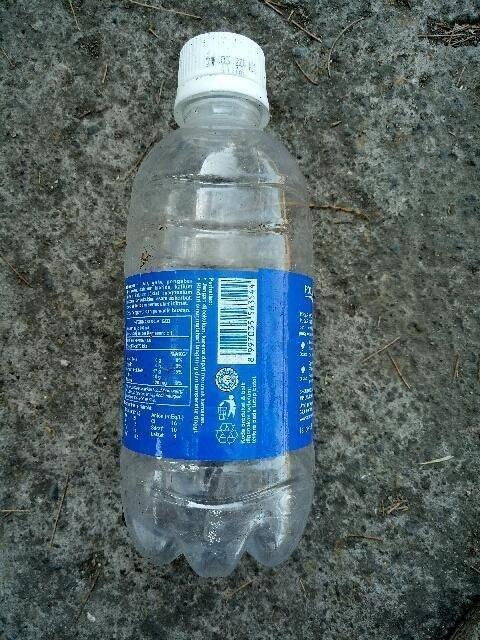bottle-plastic: (112, 25, 320, 586)
